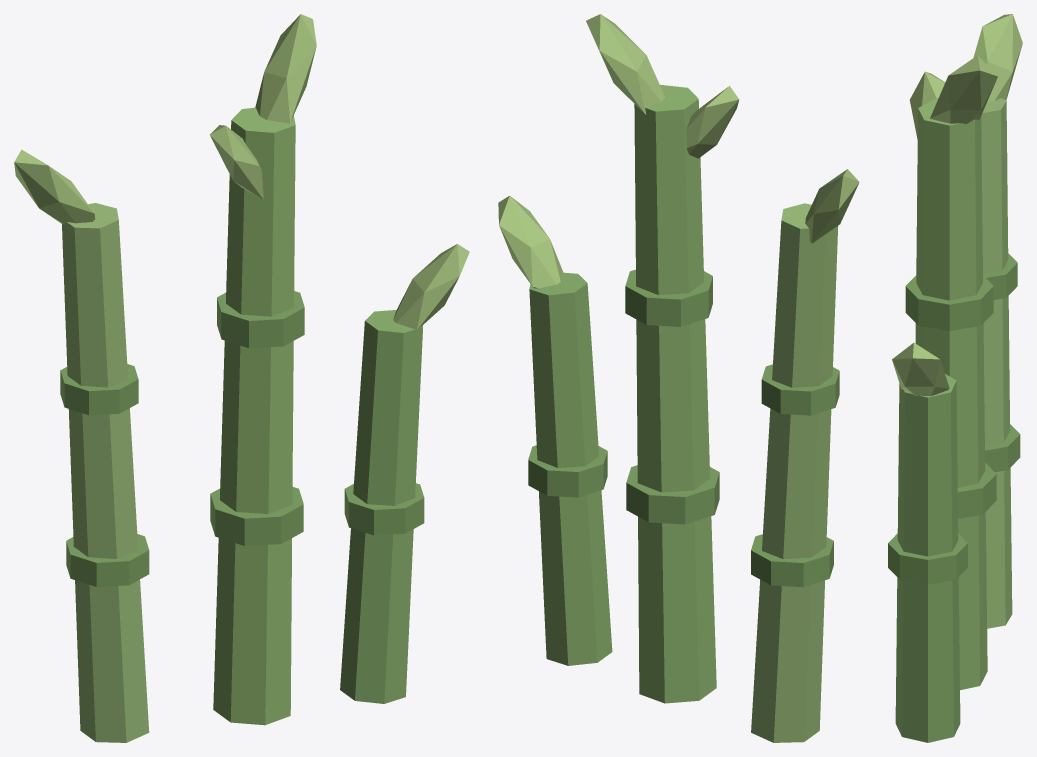
The picture shows the model from 3 angles, left to right: view 1: azimuth 30°, elevation 25°; view 2: azimuth 150°, elevation 25°; view 3: azimuth 270°, elevation 25°; orthographic projection. The views are drawn at different scales.
Visible parts, largest first — view 1: part0, part4, part2, part12, part10, part5, part9, part7, part13, part1, part16, part3 (+5 smaller); view 2: part0, part4, part2, part12, part10, part5, part9, part7, part13, part16, part1, part3 (+5 smaller); view 3: part4, part10, part12, part2, part0, part9, part5, part7, part3, part13, part15, part11 (+5 smaller).
Part boxes in pixels (x1,y1,x2,y2): part0: [213, 538, 291, 725]; part4: [226, 107, 295, 316]; part2: [220, 340, 293, 513]; part12: [353, 310, 422, 505]; part10: [340, 528, 413, 703]; part5: [75, 579, 149, 742]; part9: [62, 203, 128, 387]; part7: [68, 408, 138, 558]; part13: [255, 14, 316, 123]; part1: [210, 487, 303, 545]; part16: [393, 244, 469, 331]; part3: [217, 291, 304, 348]; part0: [638, 516, 716, 703]; part4: [634, 84, 704, 295]; part2: [636, 319, 710, 492]; part12: [529, 272, 598, 467]; part10: [539, 490, 612, 665]; part5: [751, 580, 824, 742]; part9: [772, 203, 838, 387]; part7: [762, 408, 831, 559]; part13: [586, 14, 665, 114]; part16: [498, 195, 563, 288]; part1: [626, 465, 719, 524]; part3: [625, 269, 712, 326]; part4: [916, 98, 982, 300]; part10: [895, 577, 960, 742]; part12: [897, 374, 958, 556]; part2: [915, 323, 985, 487]; part0: [958, 512, 987, 690]; part9: [981, 98, 1008, 274]; part5: [985, 468, 1012, 628]; part7: [983, 296, 1010, 446]; part3: [905, 275, 993, 331]; part13: [930, 55, 997, 123]; part15: [973, 14, 1022, 102]; part11: [888, 533, 967, 584].
Size of the model in its own units: 3.17 by 4.98 by 0.9341.
